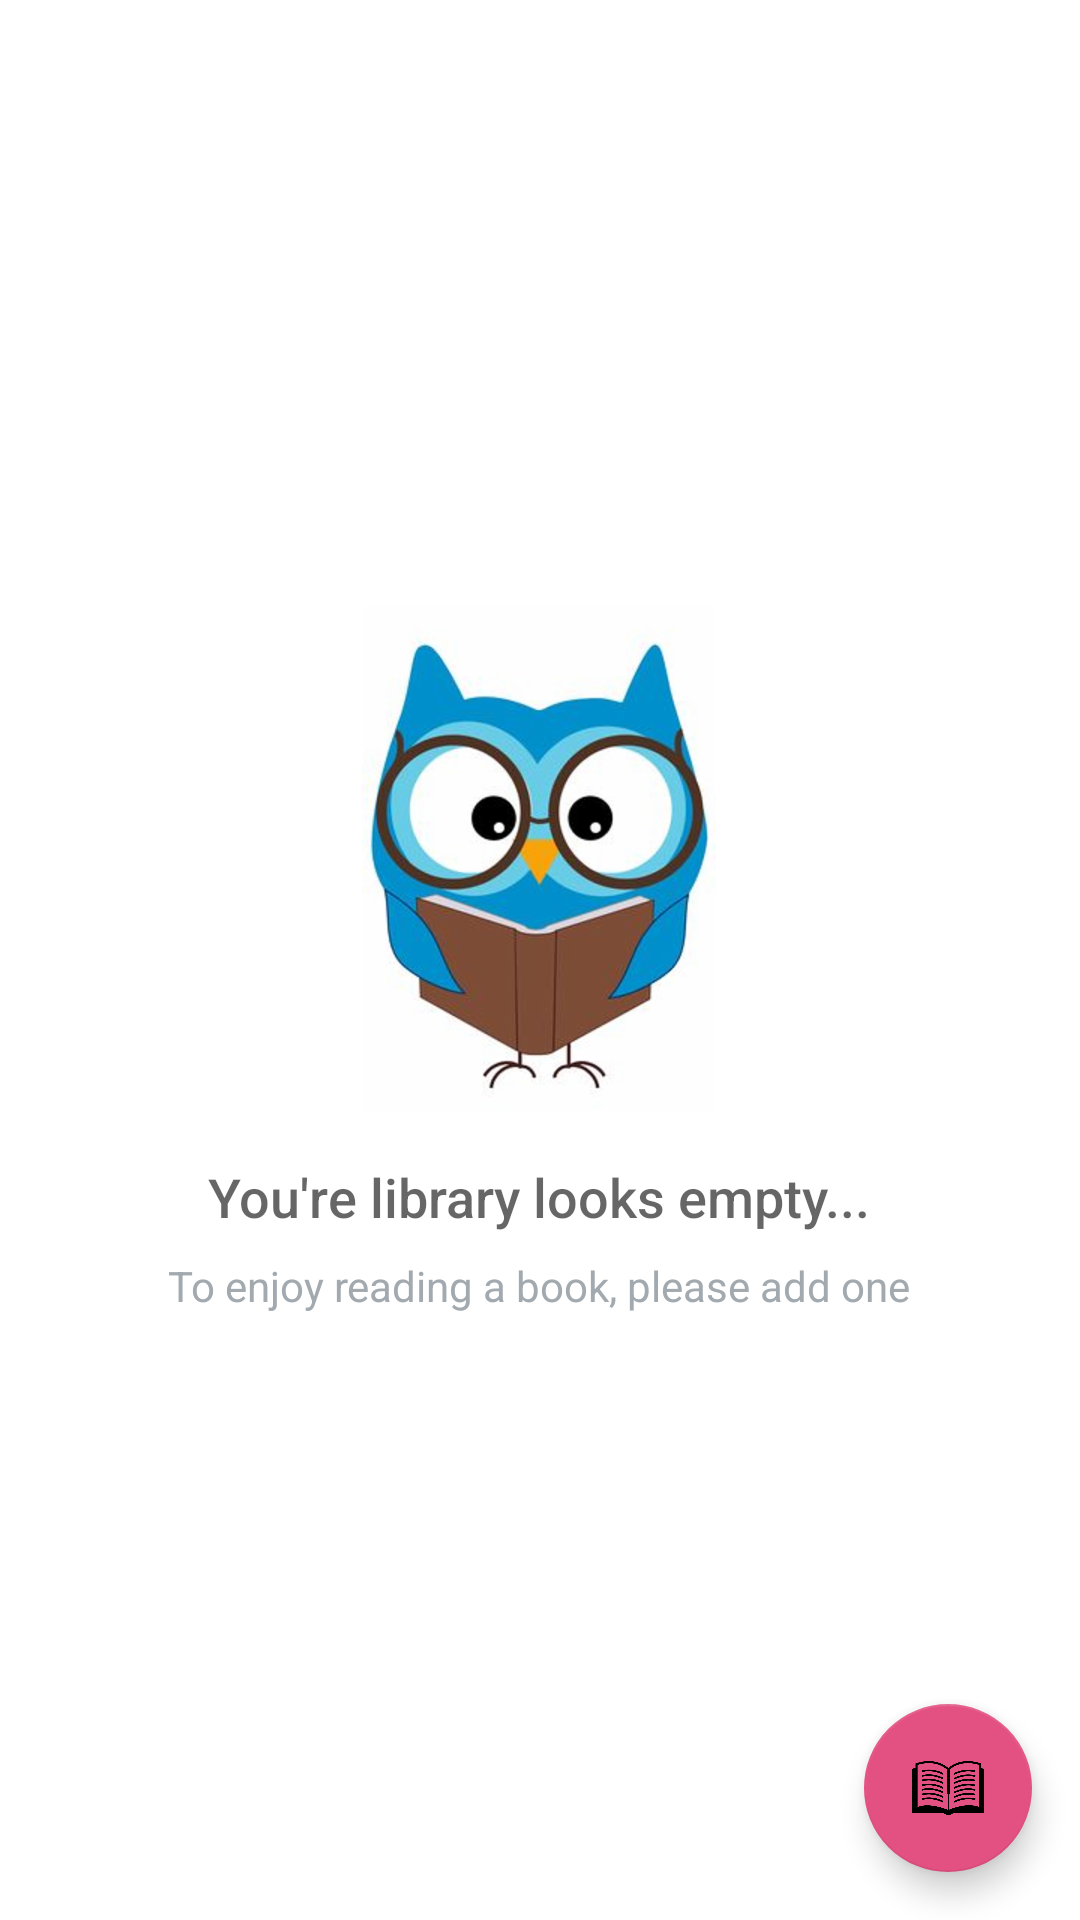

Locate icon controls on the screen. Image size 1080*1920, boxes as (x1, y1, x2, y2).
add book: (864, 1704, 1032, 1872)
